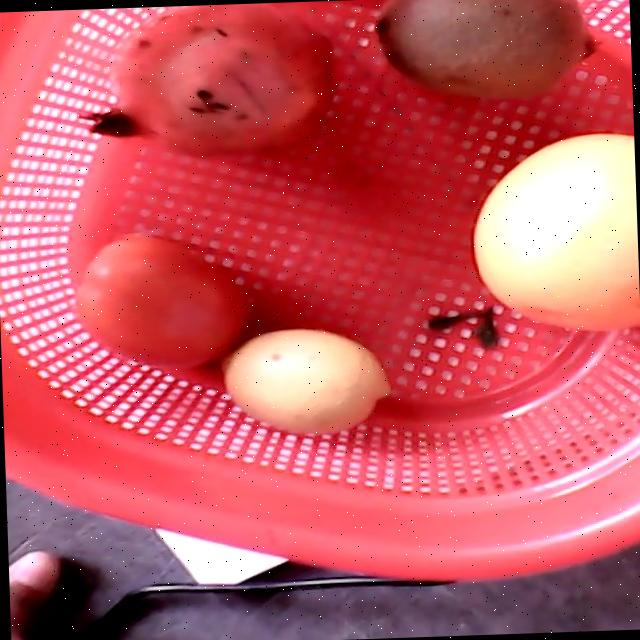kiwi: (374, 0, 597, 98)
lemon: (219, 327, 390, 433)
orange: (472, 132, 639, 331)
pomegranate: (77, 3, 335, 157)
tomato: (76, 232, 253, 366)
